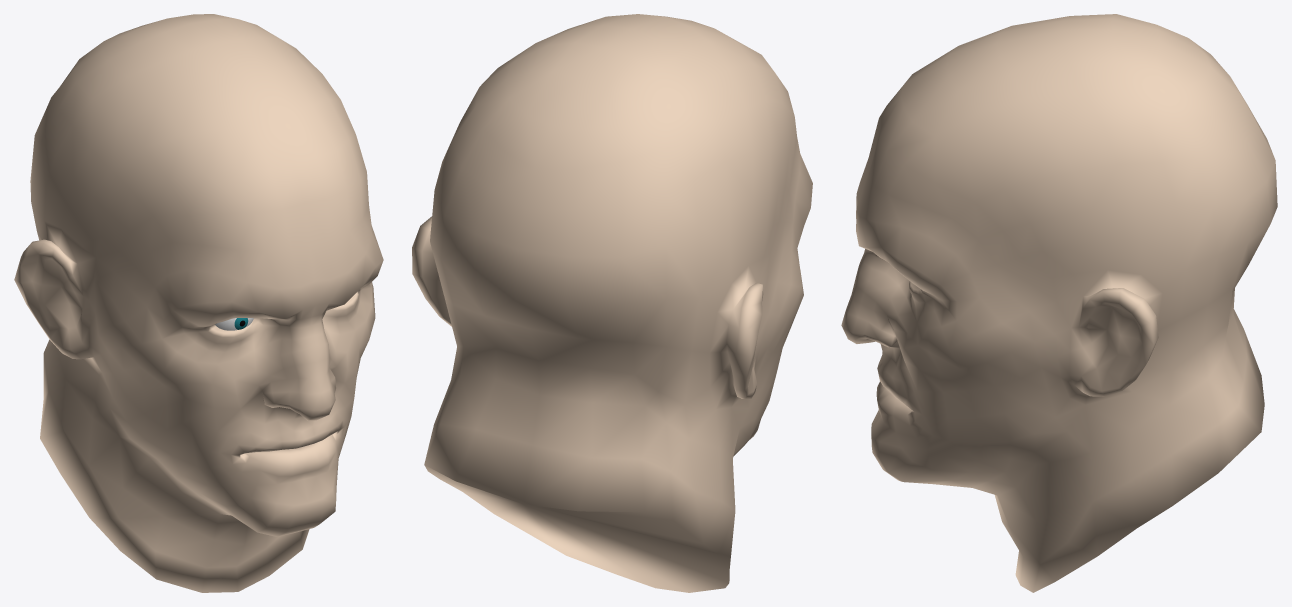
File: myman_exported.fbx
3 views of the same model, side by side, from view 1: azimuth 30°, elevation 25°; view 2: azimuth 150°, elevation 25°; view 3: azimuth 270°, elevation 25° (orthographic). The views are drawn at different scales.
Parts seen in each view (by area): view 1: mymodel; view 2: mymodel; view 3: mymodel.
Part boxes in pixels (<box>): mymodel: <box>14,14,383,592</box>; mymodel: <box>412,14,812,592</box>; mymodel: <box>841,14,1277,592</box>.
Size of the model in its own units: 58.04 by 93.99 by 68.14.
